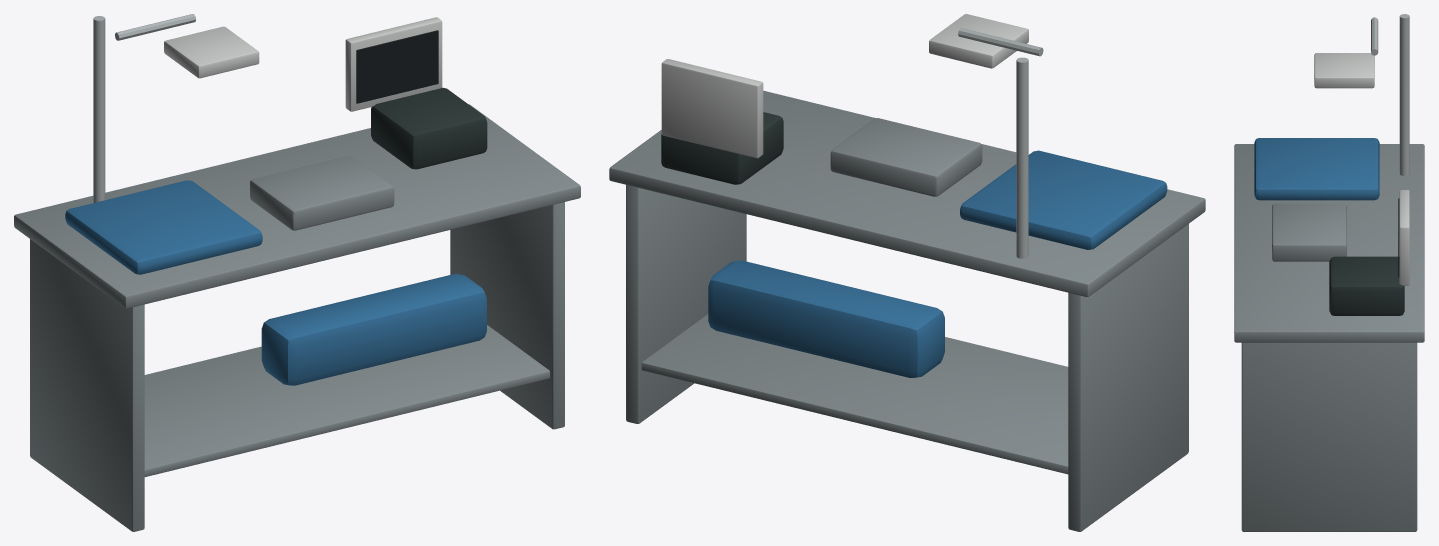
Rendered from sc-inspection-bench.glb.
3 views of the same model, side by side, from view 1: azimuth 30°, elevation 25°; view 2: azimuth 150°, elevation 25°; view 3: azimuth 270°, elevation 25° (orthographic). The views are drawn at different scales.
Visible parts, largest first — view 1: sc-inspection-bench; view 2: sc-inspection-bench; view 3: sc-inspection-bench.
Part boxes in pixels (x1=…): sc-inspection-bench: x1=14, y1=14, x2=580, y2=531; sc-inspection-bench: x1=609, y1=14, x2=1205, y2=531; sc-inspection-bench: x1=1234, y1=14, x2=1424, y2=531.
Size of the model in its own units: 1.78 by 1.6 by 0.76.
